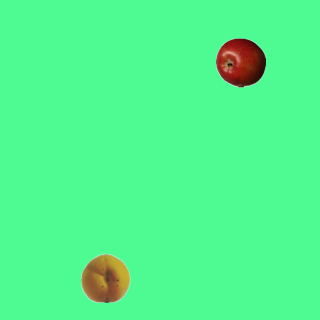Apple Braeburn: (215, 37, 265, 87)
Peach 2: (80, 252, 130, 302)
